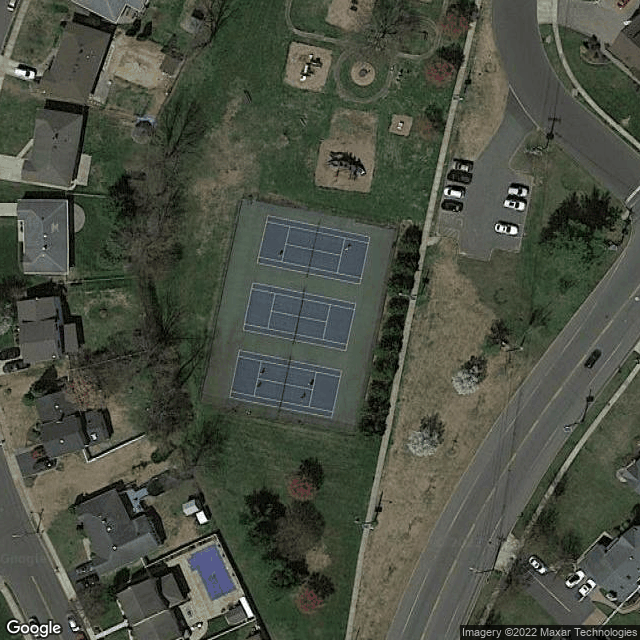Court: (238, 279, 359, 353), (226, 347, 344, 419), (256, 213, 372, 286)
